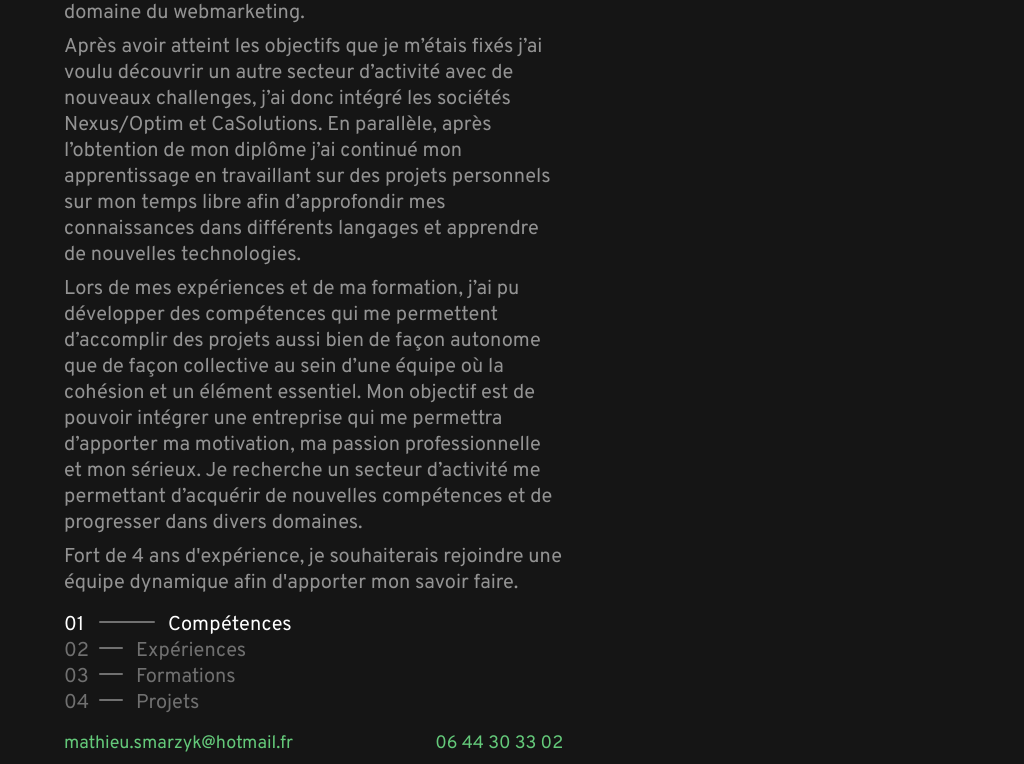
Test: should go to page experiences
The width and height of the screenshot is (1024, 764).
(page scrolled)
Click the text "Expériences": click(191, 651) [136, 638, 246, 664]
(page scrolled)
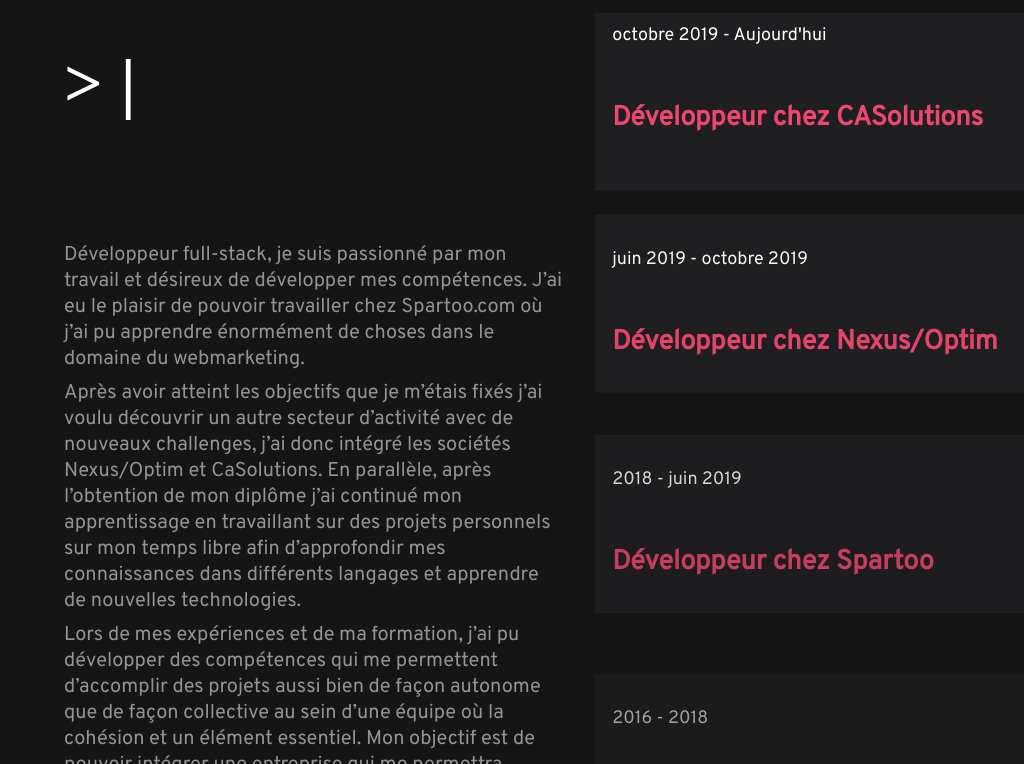
Check: the heading "Développeur chez CASolutions" is shown, box [612, 101, 1007, 135]
